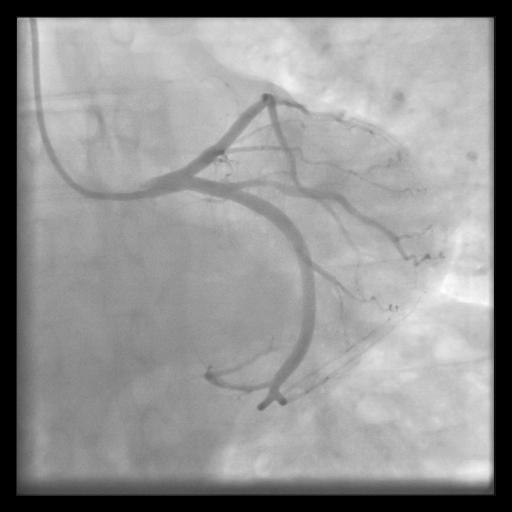Stenosis: (244, 175, 285, 192)
